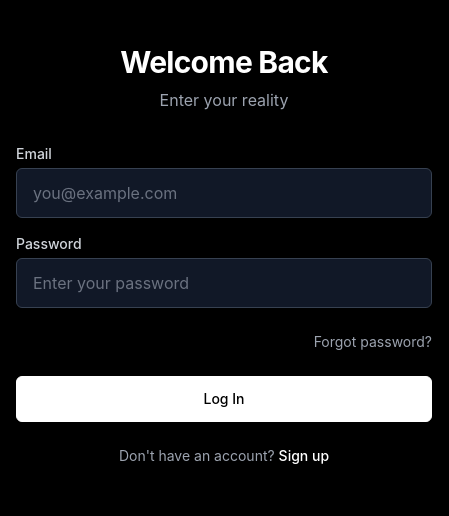
LoginPage › shows error for network failure
Type "test@example.com" into the field labelled "Email".
click(224, 193); type("test@example.com")  # box [16,168,432,218]
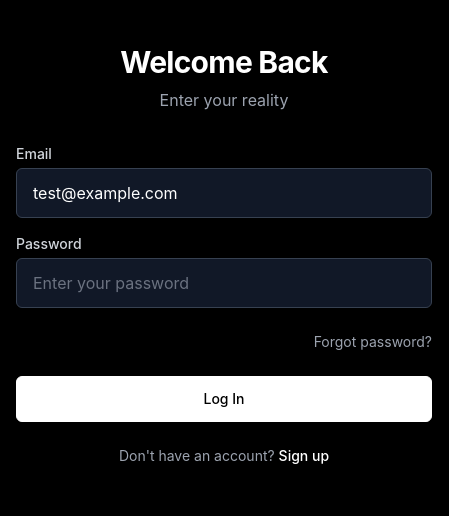
Type "password123" into the password field labelled "Password".
click(224, 283); type("password123")  # box [16,258,432,308]
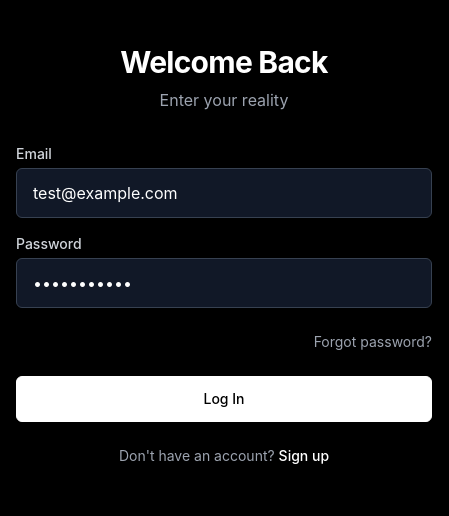
Click the button "Log In".
click(224, 399)  # box [16,376,432,422]
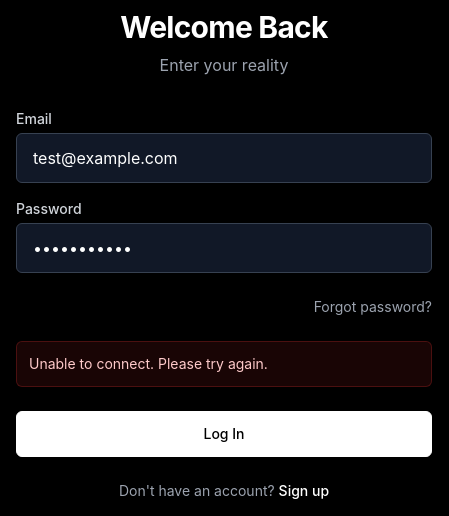
Now the text "Unable to connect. Please try again." is shown, box [29,355,268,372]
